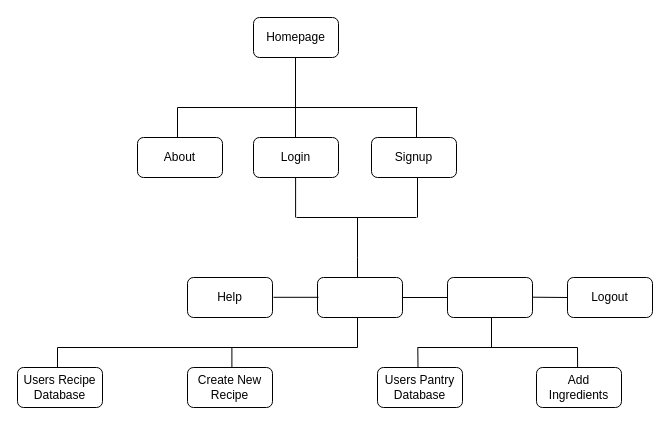
Image size: 670x425. Some labels were removed from this diagram. The shapes that lost their labels are listed below. From the top down, each one's box as (x1, y1, x2, y2) in pixels, then its label:
(316, 276, 402, 318): Recipes
(446, 276, 532, 318): Pantry
